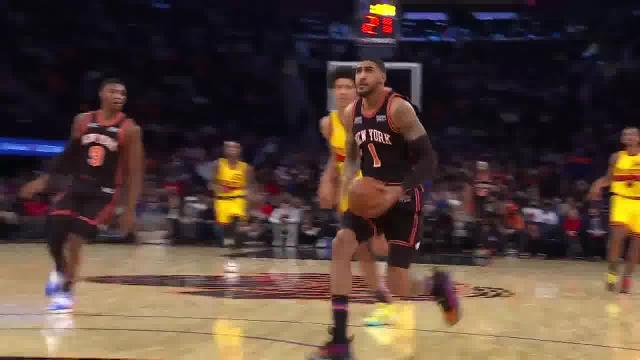ball-handler: (313, 44, 462, 360)
player: (24, 59, 145, 311), (584, 120, 640, 294), (208, 131, 260, 277)
